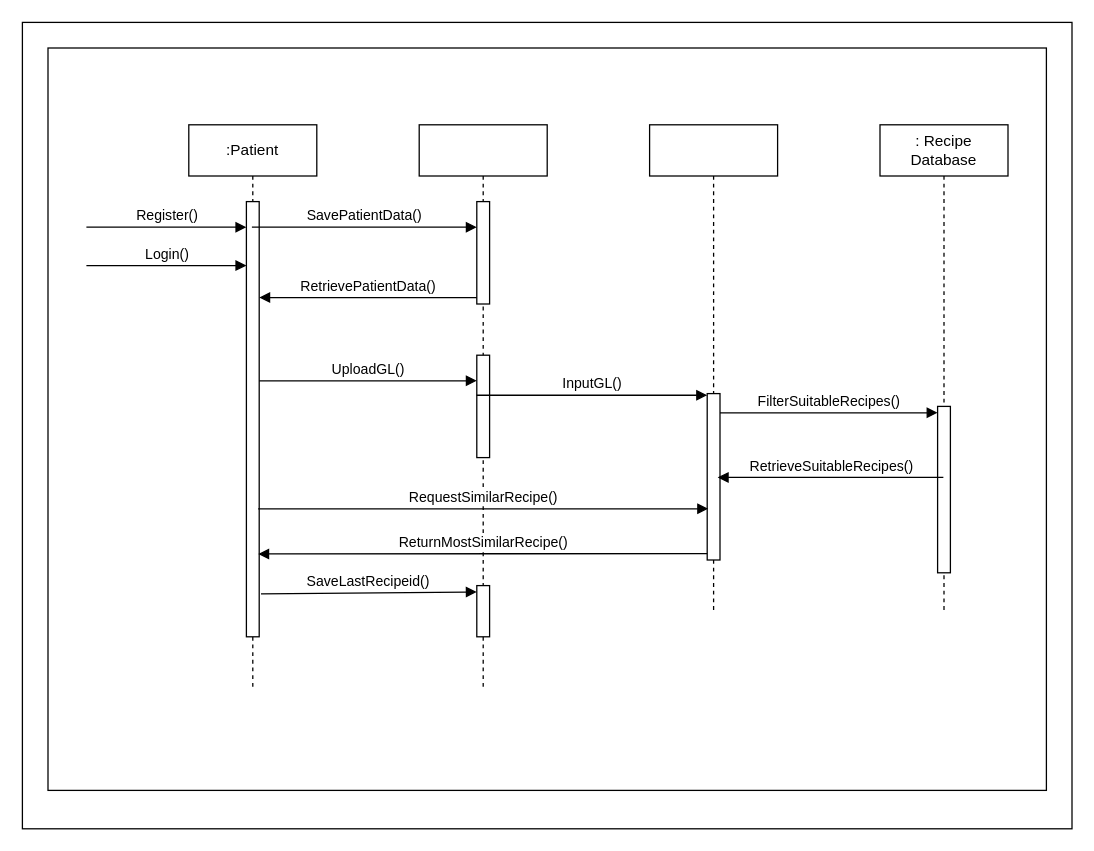
This 1094x851 diagram has some shape labels left out. Here are the shapes that lost their labels. From the top down, the box of each, then its label:
(648, 124, 778, 611): : Recommender Model
(418, 124, 547, 688): :Database
